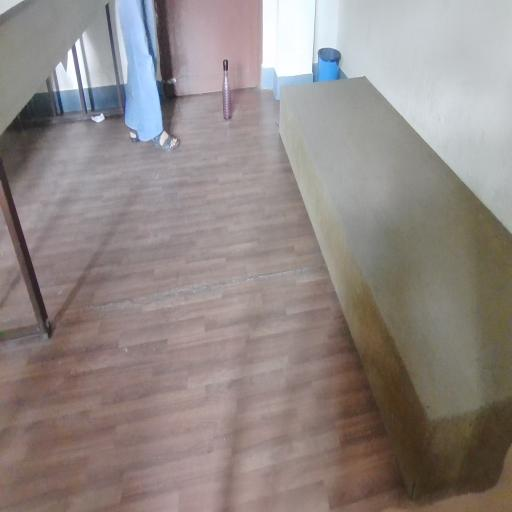Bottle: (220, 56, 250, 135)
